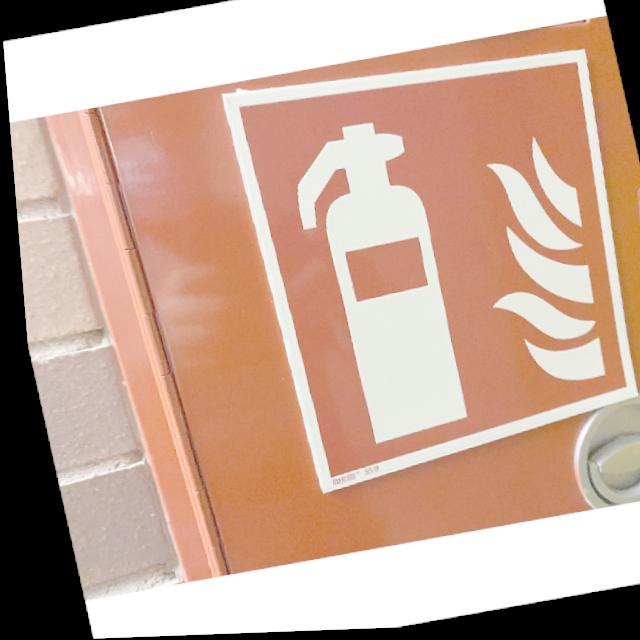fire extinguisher: (218, 34, 640, 499)
